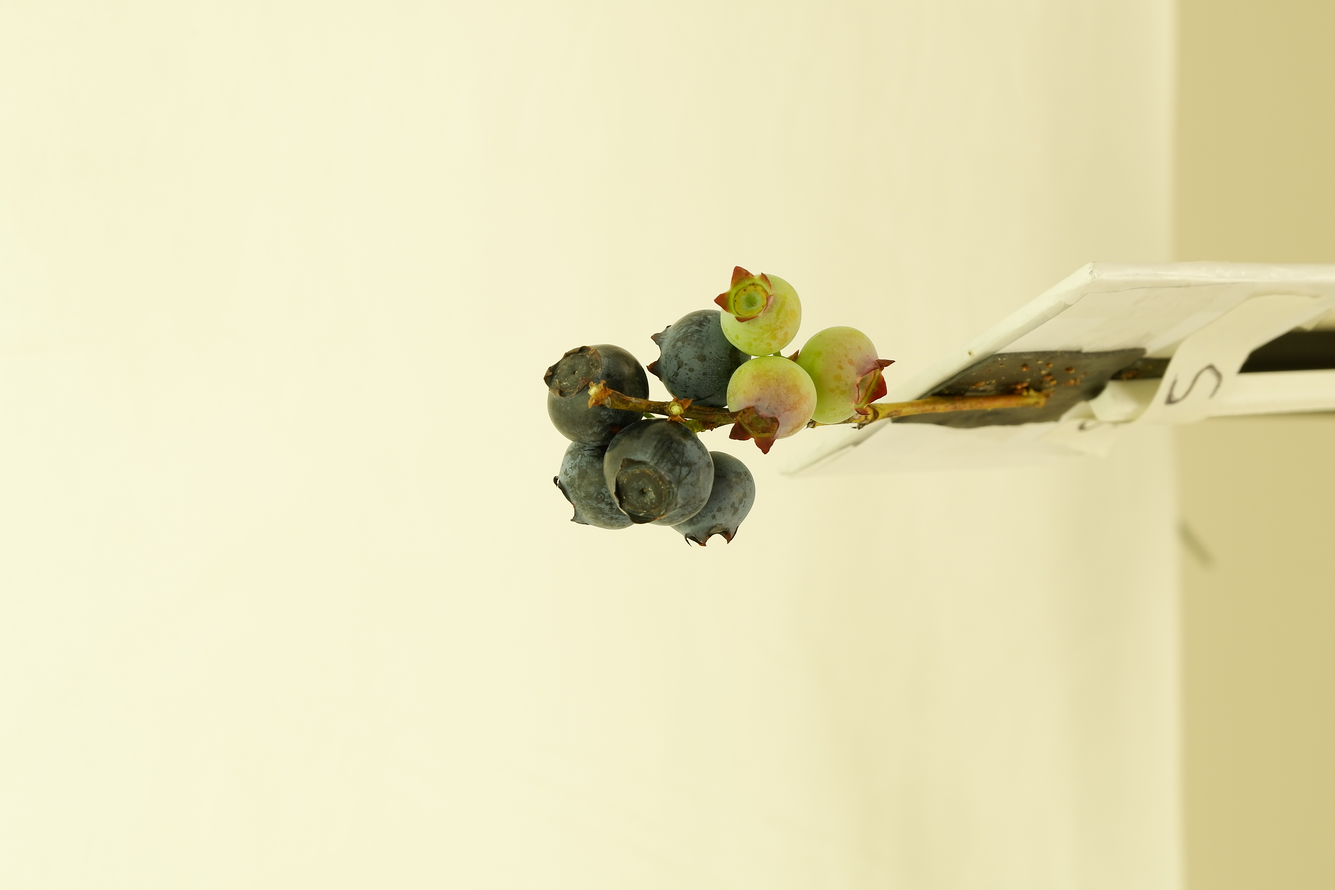Immature: (796, 328, 893, 423), (726, 358, 815, 454), (718, 267, 801, 354)
Mature: (604, 421, 712, 527), (547, 345, 651, 445), (652, 311, 746, 407), (674, 455, 755, 544), (557, 441, 633, 529)
